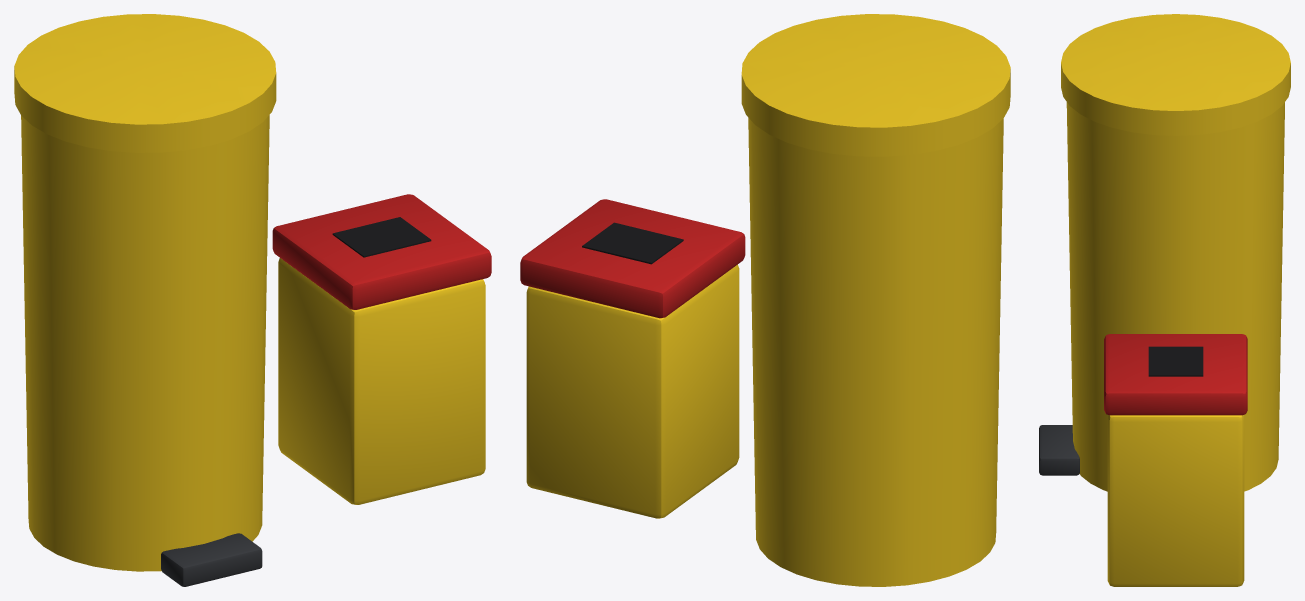
The model's file is medical-waste-bin.glb.
3 renders of one model, left to right at view 1: azimuth 30°, elevation 25°; view 2: azimuth 150°, elevation 25°; view 3: azimuth 270°, elevation 25°, orthographic. The views are drawn at different scales.
Visible parts, largest first — view 1: Pedal clinical waste bin and sharps container (no labels) -  (×4); view 2: Pedal clinical waste bin and sharps container (no labels) -  (×3); view 3: Pedal clinical waste bin and sharps container (no labels) -  (×4).
Part boxes in pixels (box(x1,y1,x2,y2)): Pedal clinical waste bin and sharps container (no labels) -  (×4): box(14, 14, 491, 586); Pedal clinical waste bin and sharps container (no labels) -  (×3): box(520, 14, 1010, 586); Pedal clinical waste bin and sharps container (no labels) -  (×4): box(1039, 14, 1290, 586).
Size of the model in its own units: 0.623 by 0.65 by 0.368.
